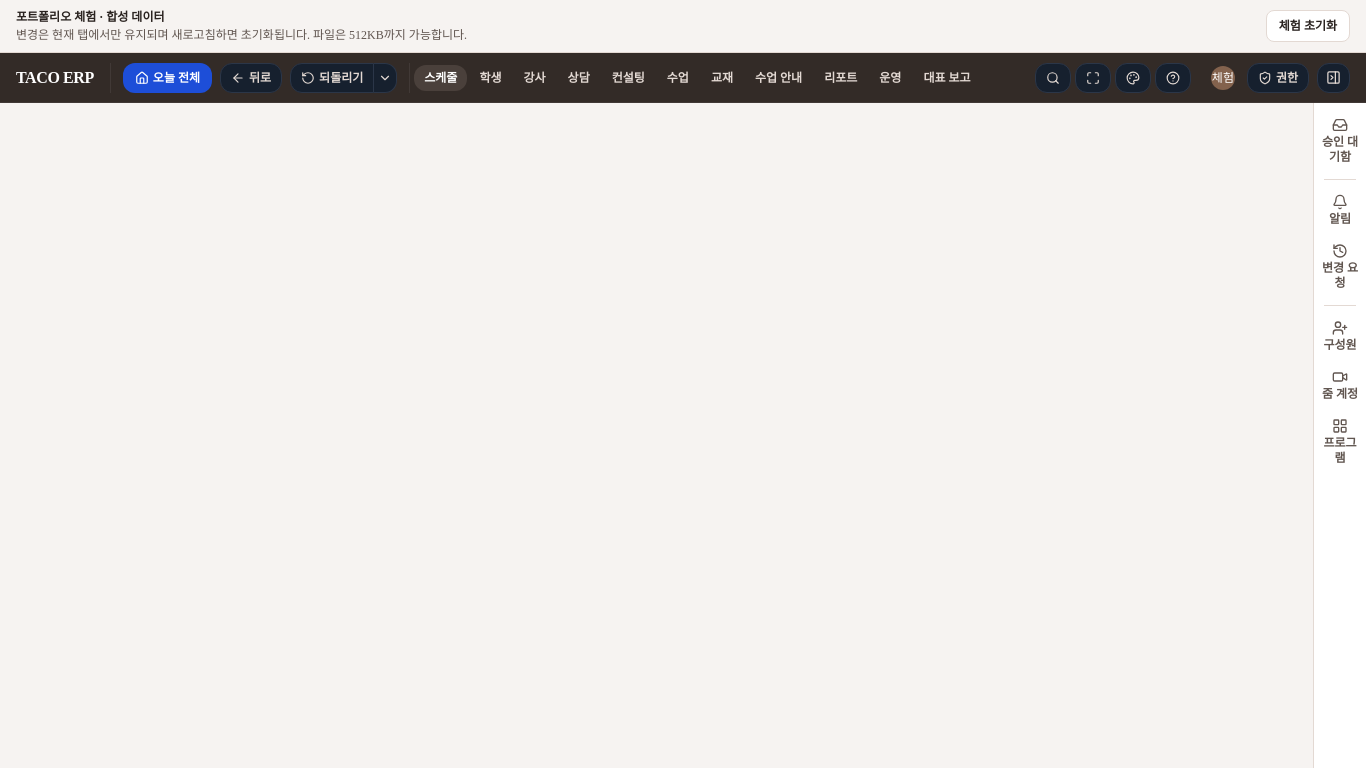
되돌리기 여러 단계 (g1 S5) › 중간 단계가 막히면 거기서 멈추고 그 단계만 버린다 — 앞 단계는 남는다
Click the button named "되돌릴 단계 목록".
click(386, 78)  # box [374,62,397,92]
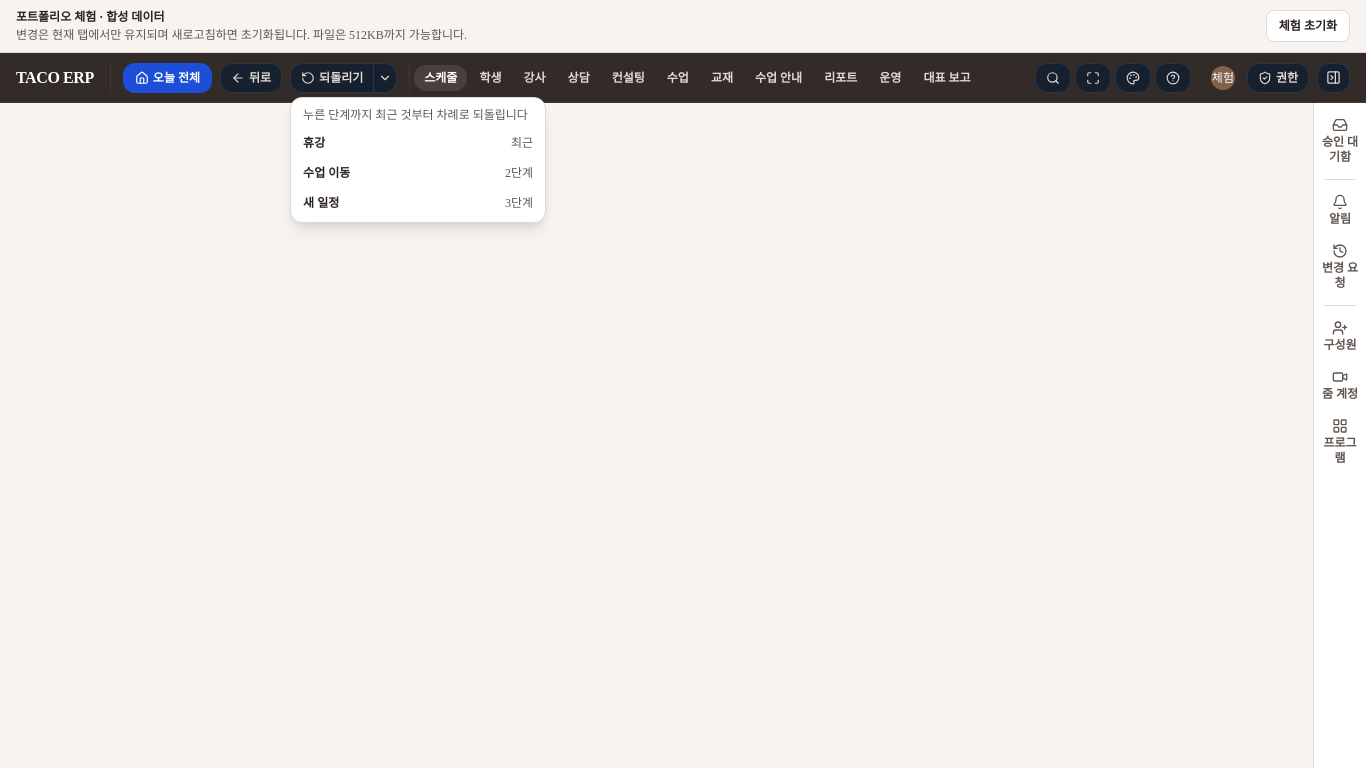
Click the menu item "새 일정 3단계".
click(418, 202)  # box [295,188,541,218]
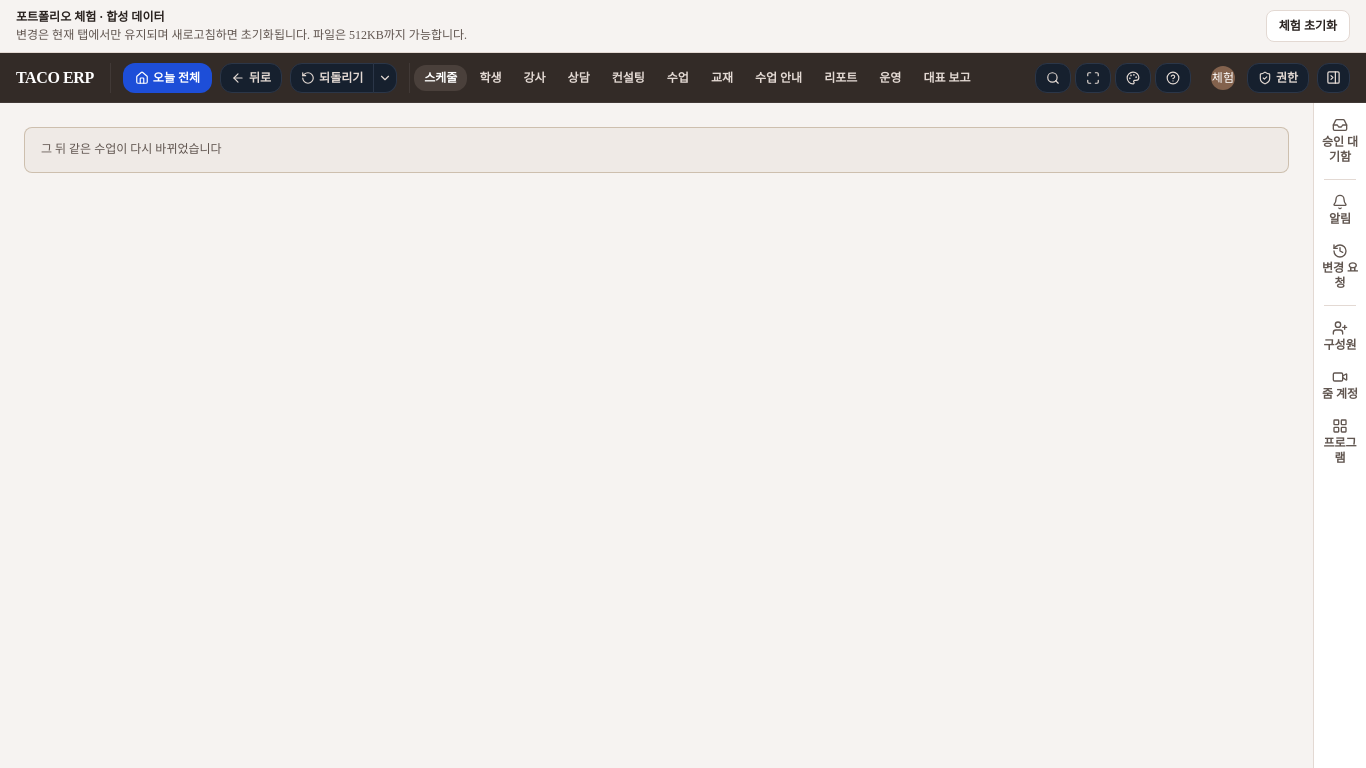
Check: the text "그 뒤 같은 수업이 다시 바뀌었습니다" is shown, box [24,127,1289,172]
